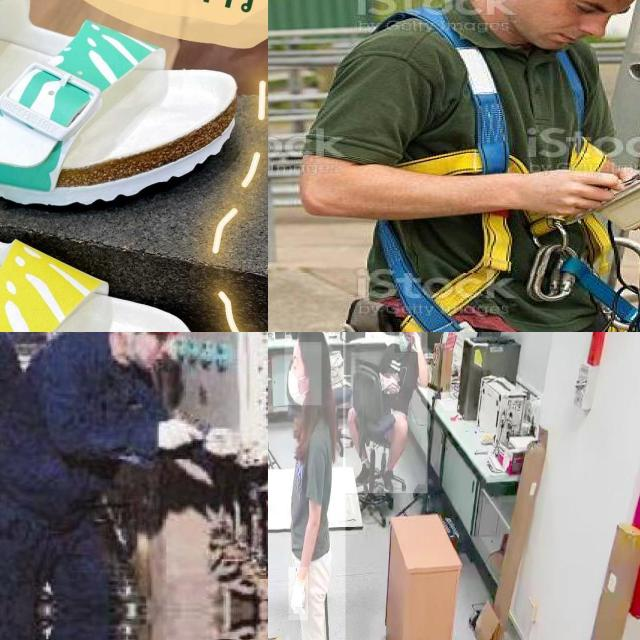Harness: (393, 3, 640, 332)
No_Glasses: (562, 0, 633, 29)
Sandals: (0, 0, 259, 220), (0, 143, 258, 332)
face_mask: (284, 342, 322, 405), (394, 332, 415, 352)
face_nomask: (135, 332, 170, 368)
hand_glove: (155, 417, 206, 454), (288, 567, 308, 621)
hand_noglove: (384, 373, 398, 394), (410, 332, 421, 351)
head_nohelmet: (292, 332, 325, 345)
person: (0, 332, 188, 640), (268, 332, 346, 640), (343, 332, 428, 494)
